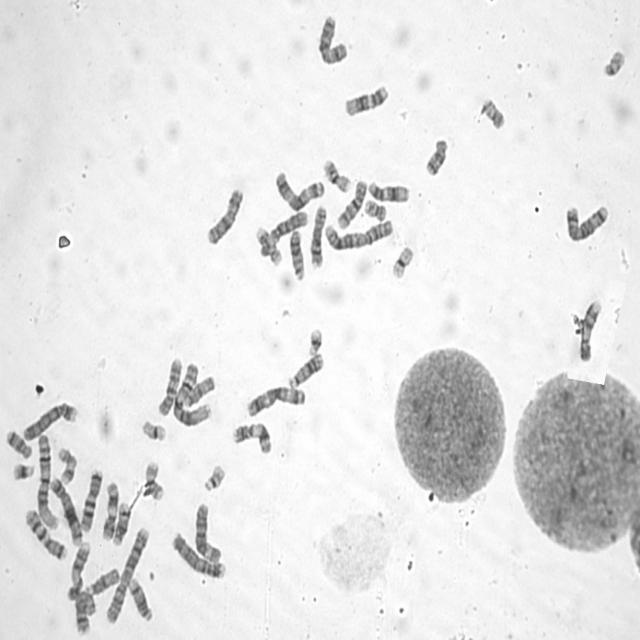A1: (169, 358, 213, 428), (34, 430, 60, 531)
A2: (102, 522, 151, 625), (321, 215, 394, 252)
A3: (272, 167, 326, 213), (244, 382, 307, 419)
B4: (169, 528, 226, 580), (21, 398, 78, 443)
B5: (47, 473, 83, 547), (563, 200, 610, 244)
C10: (334, 176, 368, 231), (156, 353, 183, 417)
C11: (229, 419, 273, 455), (100, 478, 120, 542)
C12: (342, 80, 390, 118), (365, 178, 411, 204)
C6: (256, 207, 309, 258), (191, 498, 223, 564)
C7: (22, 505, 68, 562), (78, 466, 104, 534)
C8: (306, 202, 328, 270), (72, 587, 97, 636)
C9: (577, 295, 603, 363), (64, 538, 91, 602)
D13: (286, 349, 324, 390), (286, 226, 306, 282)
D14: (125, 574, 153, 624), (110, 498, 131, 546)
D15: (182, 372, 216, 409), (82, 564, 120, 596)
E16: (320, 155, 352, 194), (141, 458, 165, 502)
E17: (253, 222, 283, 267), (55, 444, 78, 486)
E18: (422, 134, 449, 178), (3, 426, 33, 460)
F19: (389, 242, 415, 280), (138, 415, 168, 443)
F20: (478, 94, 506, 131), (362, 196, 388, 222)
G21: (9, 459, 35, 482), (306, 324, 324, 356)
G22: (600, 45, 626, 78), (201, 461, 226, 493)
X: (203, 184, 245, 247), (315, 11, 349, 66)
